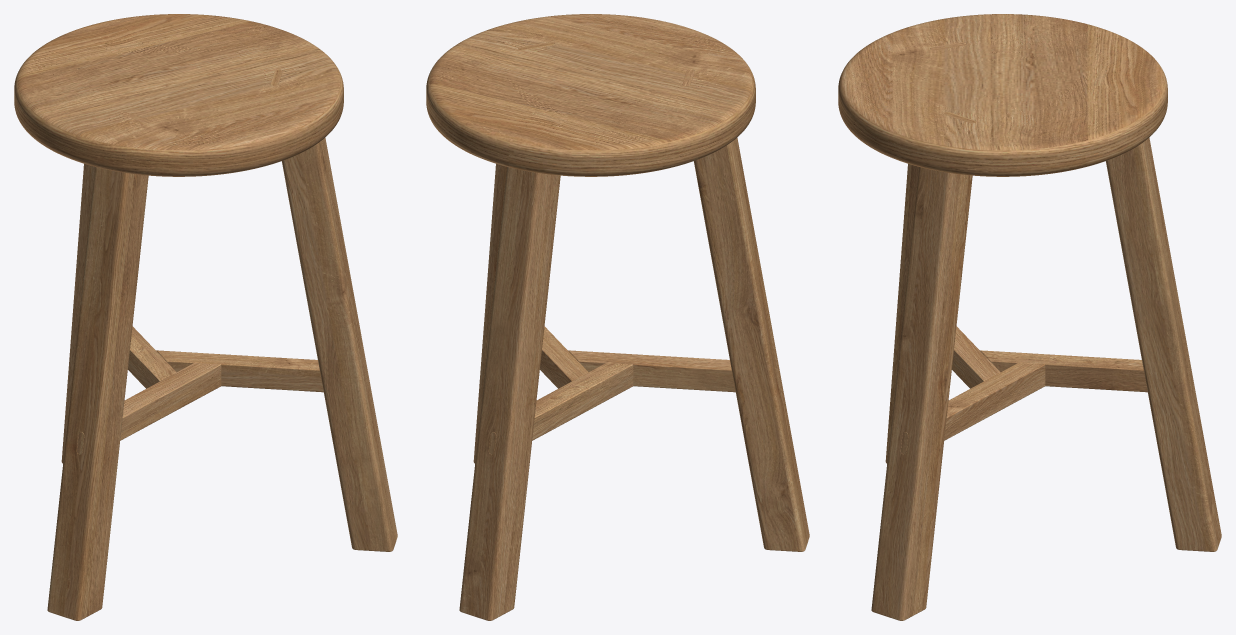
File: banco.obj
The picture shows the model from 3 angles, left to right: view 1: azimuth 30°, elevation 25°; view 2: azimuth 150°, elevation 25°; view 3: azimuth 270°, elevation 25°; orthographic projection.
Parts seen in each view (by area): view 1: Object002; view 2: Object002; view 3: Object002.
Boxes of the visible parts, x1,y1,x2,y2 form: Object002: (14, 14, 397, 620); Object002: (426, 14, 809, 620); Object002: (838, 14, 1221, 620).
Size of the model in its own units: 0.3569 by 0.4618 by 0.349.
2 materials, 2 textured.
